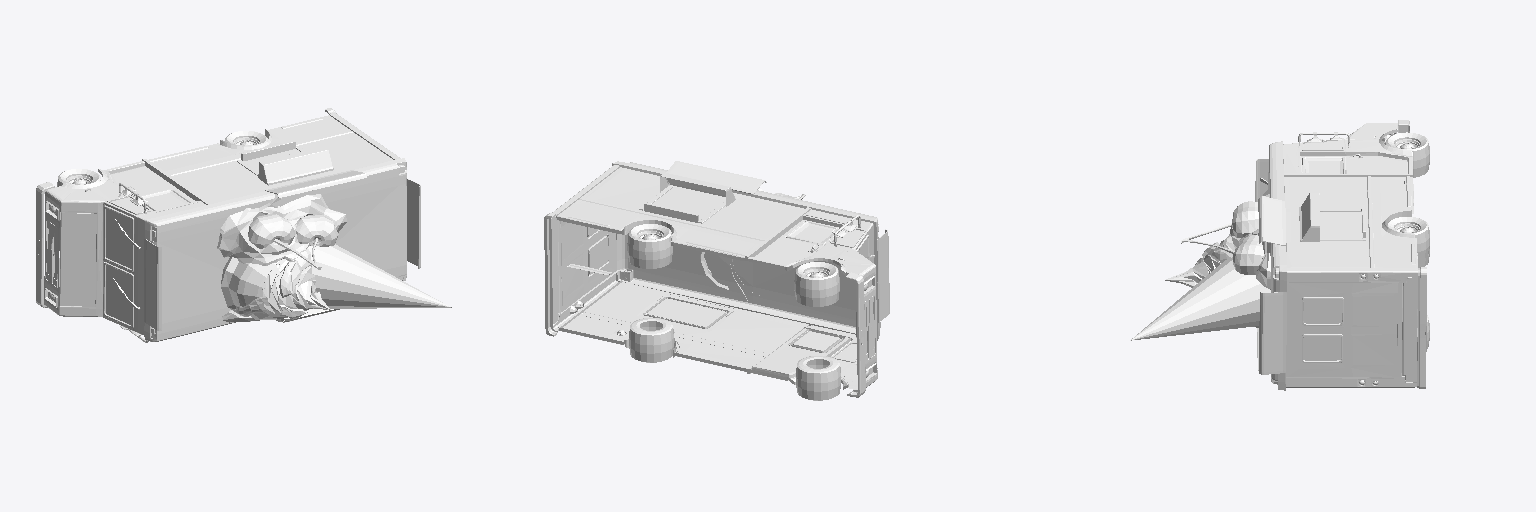
The model's file is TruckHelado_M.obj.
3 views of the same model, side by side, from view 1: azimuth 30°, elevation 25°; view 2: azimuth 150°, elevation 25°; view 3: azimuth 270°, elevation 25° (orthographic).
Visible parts, largest first — view 1: Object.6, Object.2, Object.8, Object.7, Object.5, Object.1; view 2: Object.6, Object.7, Object.2, Object.8, Object.5, Object.1; view 3: Object.6, Object.2, Object.8, Object.7, Object.5.
Boxes of the visible parts, box(x1,y1,x2,y2) form: Object.6: box(36, 108, 406, 341); Object.2: box(37, 147, 451, 342); Object.8: box(106, 191, 188, 325); Object.7: box(57, 131, 267, 186); Object.5: box(67, 149, 299, 196); Object.1: box(234, 137, 295, 160); Object.6: box(544, 161, 879, 397); Object.7: box(627, 224, 840, 400); Object.2: box(618, 161, 889, 344); Object.8: box(588, 223, 867, 361); Object.5: box(570, 187, 829, 380); Object.1: box(637, 202, 698, 239); Object.6: box(1268, 120, 1426, 390); Object.2: box(1130, 132, 1425, 374); Object.8: box(1302, 138, 1343, 360); Object.7: box(1385, 132, 1429, 348); Object.5: box(1320, 135, 1419, 237).
Size of the model in its own units: 499 by 227 by 415.